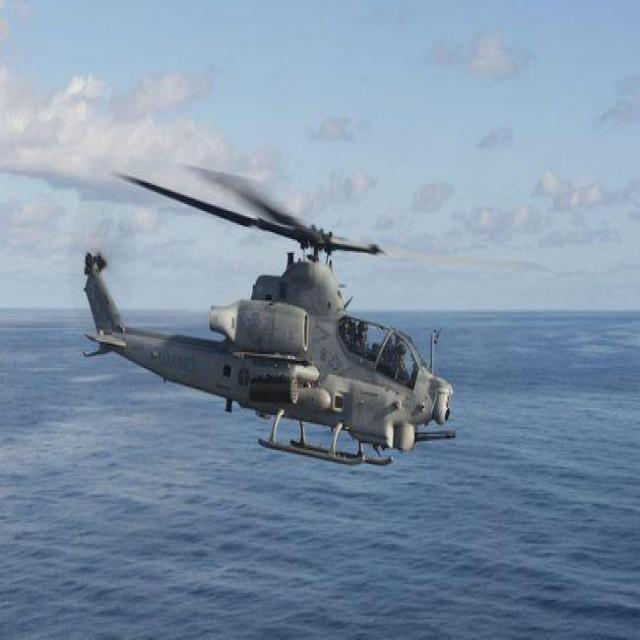MIL_HELO: (70, 136, 463, 490)
